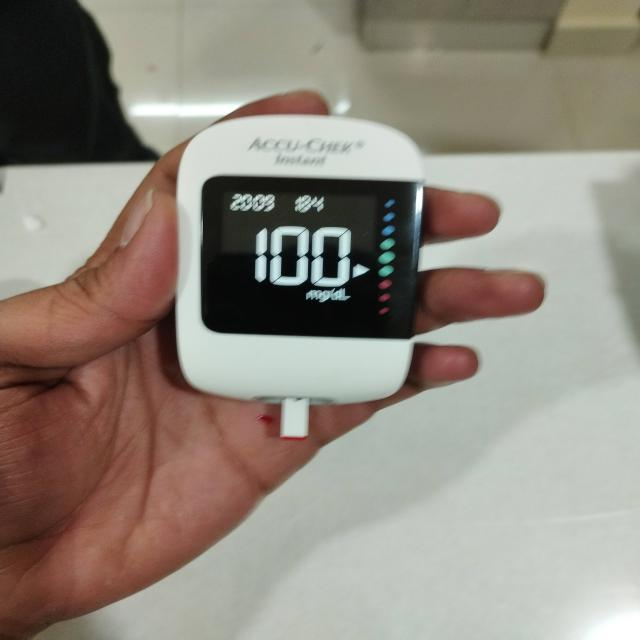gluco: (175, 112, 428, 406)
